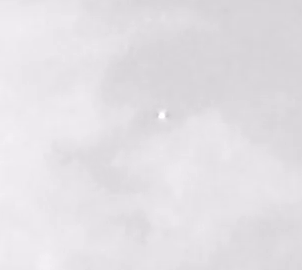Target: (158, 113, 164, 119)
